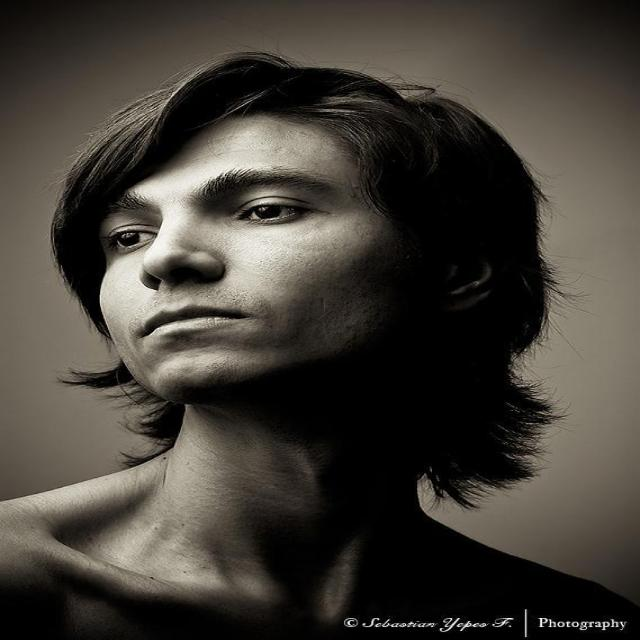no-glass: (104, 197, 318, 262)
